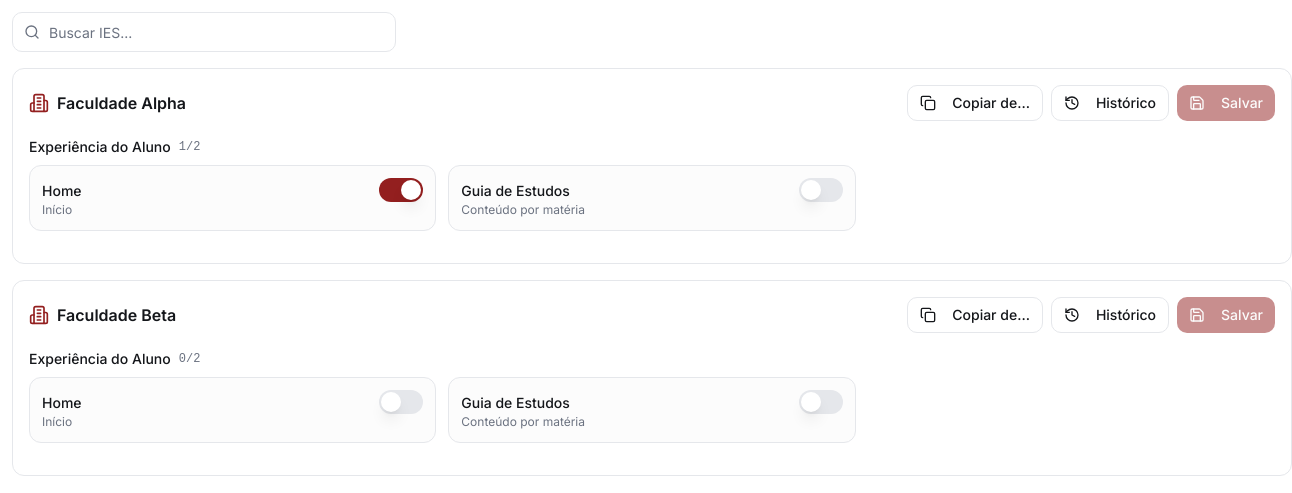
IesFeaturesBoard › togglar um switch marca pendência e habilita Salvar; salvar chama setIesFeatures com a chave certa
This screenshot has width=1292, height=493.
expect the text "Faculdade Alpha" is shown: met, box [57,91,186,115]
Click the 1st switch named "Home" at (401, 190), box [379,178,423,202]
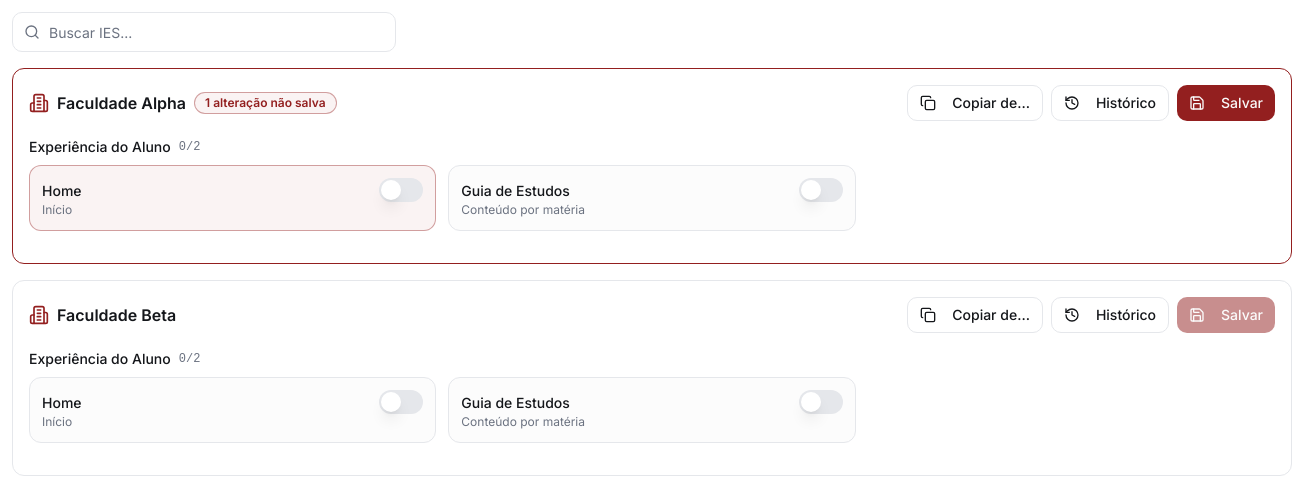
expect the text "1 alteração não salva" is shown: met, box [194,92,336,114]
expect the button "Salvar" in the row of "não salva" is enabled: met
Click the button "Salvar" in the row of "não salva" at (1226, 103), box [1177,85,1275,121]
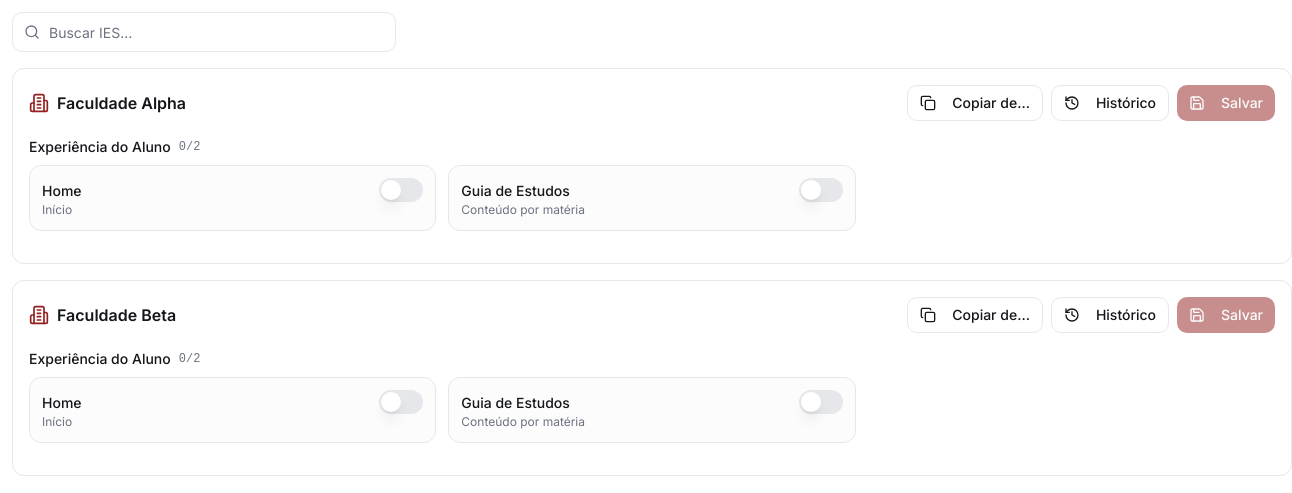
expect the text "1 alteração não salva" is gone: met
